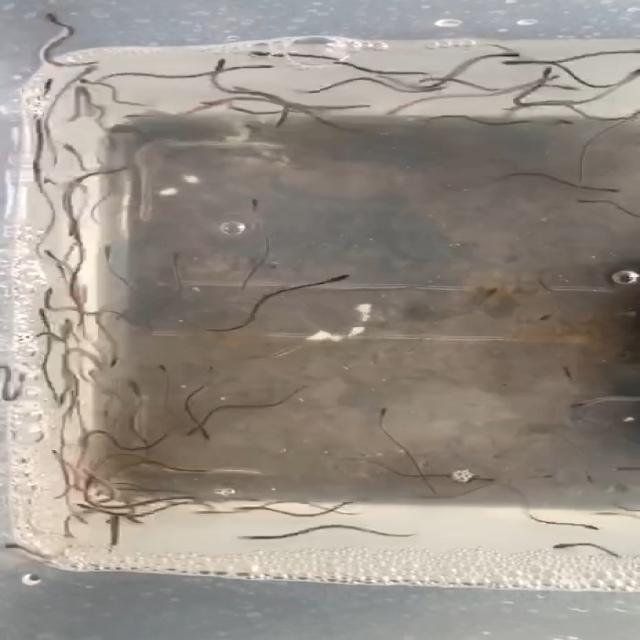inactive_glass_eel: (80, 232, 129, 260), (513, 56, 575, 78), (316, 99, 376, 121), (34, 247, 89, 271), (64, 424, 118, 448), (84, 487, 142, 505), (524, 306, 564, 332), (229, 193, 264, 222), (187, 356, 227, 381), (192, 63, 244, 81), (551, 542, 595, 563), (148, 248, 190, 270), (322, 268, 362, 291), (40, 167, 83, 187), (26, 80, 66, 101), (594, 90, 638, 108), (219, 532, 271, 546), (581, 180, 625, 196), (203, 88, 249, 102), (573, 518, 618, 532), (104, 540, 142, 556), (534, 114, 566, 133), (192, 426, 222, 446), (110, 381, 144, 398), (554, 395, 594, 409), (147, 360, 175, 380), (96, 361, 130, 377), (15, 316, 69, 326), (572, 63, 605, 79), (231, 61, 266, 76), (582, 457, 608, 475), (366, 407, 396, 422), (579, 200, 611, 214), (32, 286, 59, 302), (29, 12, 65, 24), (496, 49, 522, 62), (530, 469, 556, 481)
